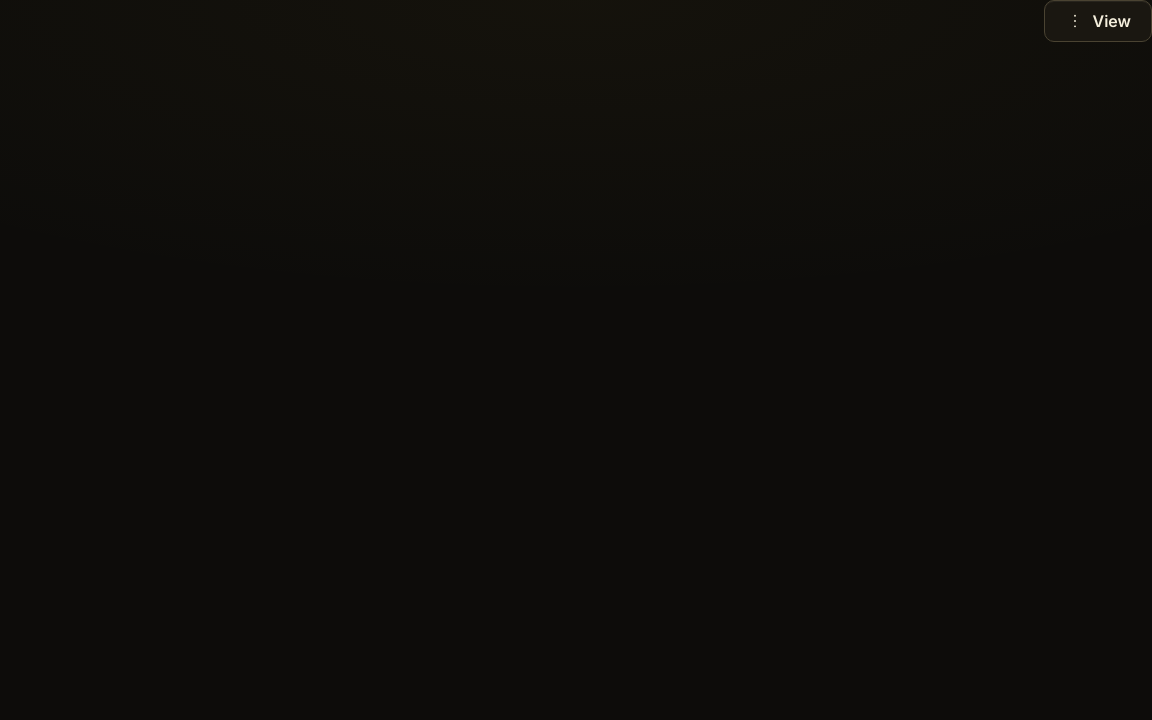
Test: View sheet › the component (no longer placed on pages; the switches live in Settings -> Appearance) still flips the layout both ways
The width and height of the screenshot is (1152, 720).
Later steps or results of the test are not shown.
What coordinates should you click on to do the following:
click the button "View"
I would click on:
 (1098, 21)
Its box is [1044,0,1151,42].
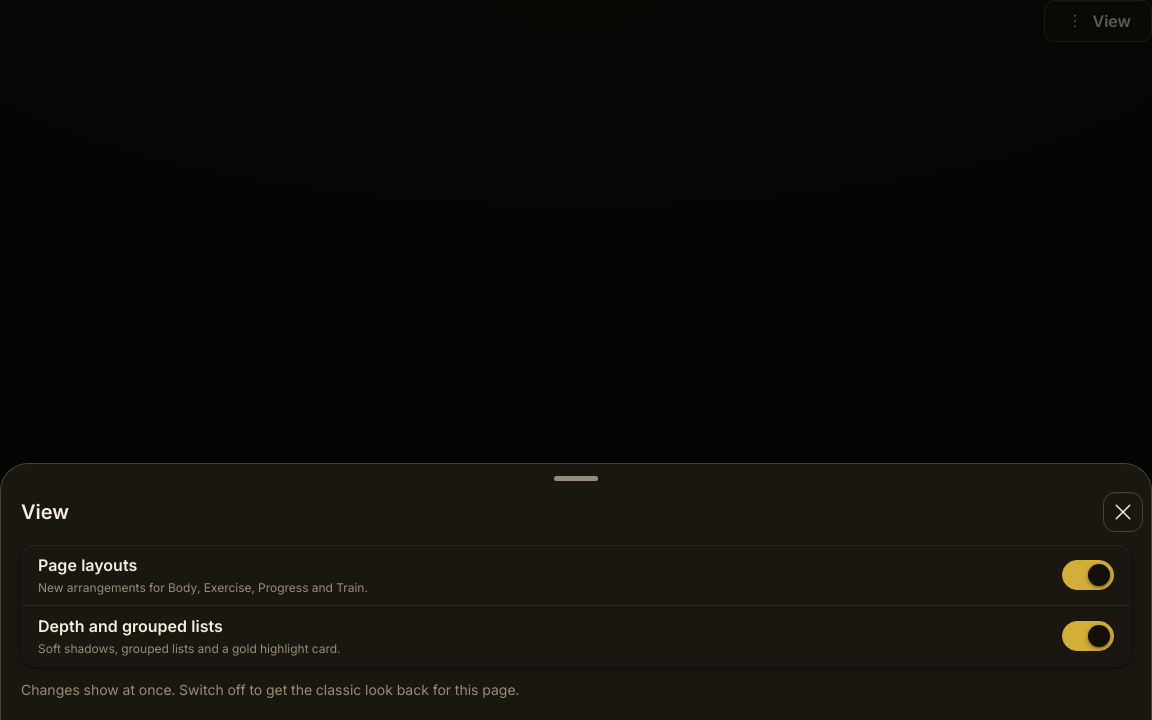
What coordinates should you click on to do the following:
click the switch named "Page layouts"
I would click on:
 (1088, 575)
Its box is [1062,560,1114,590].
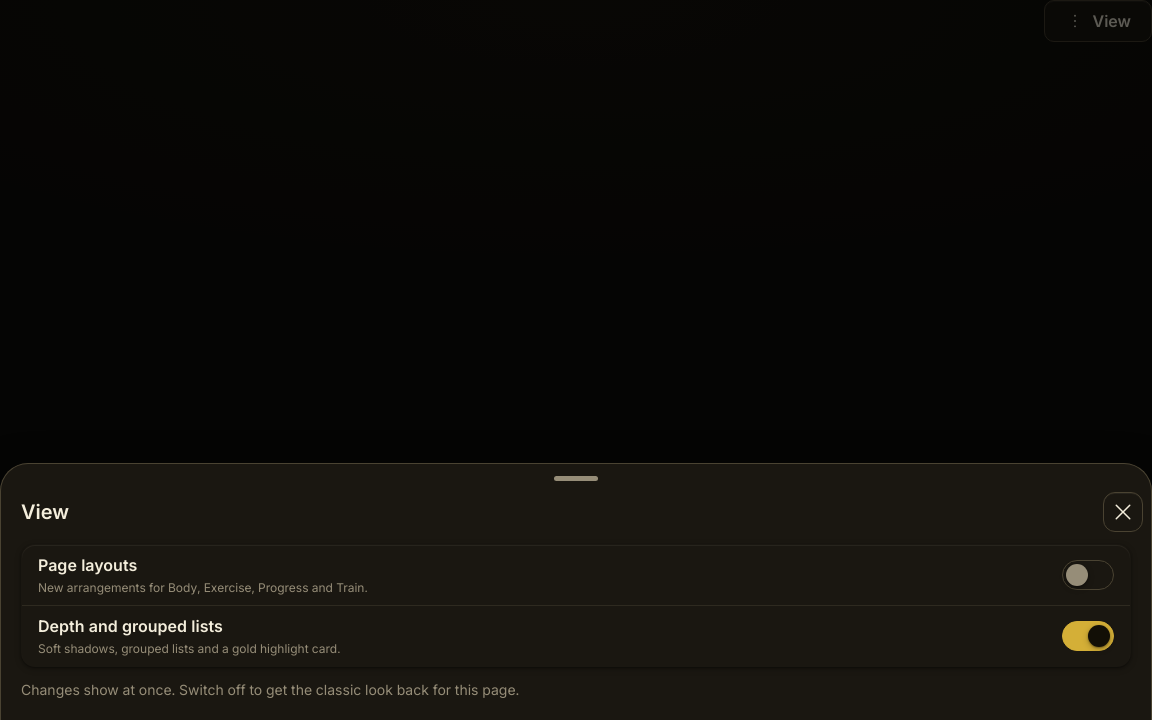
Result: the switch named "Page layouts" is not checked at [1062,560,1114,590]
